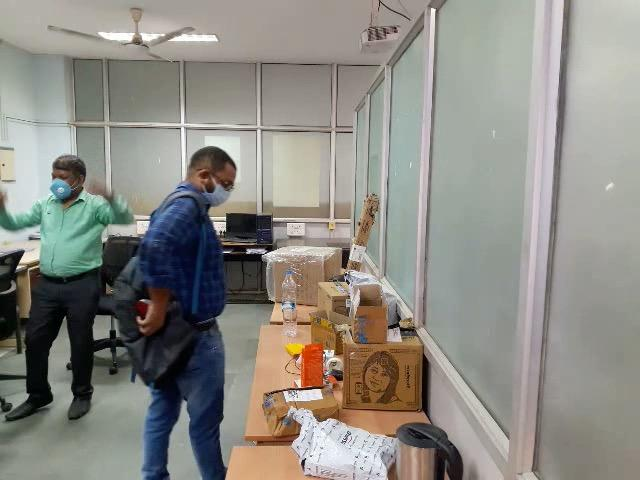shoplifting: (81, 198, 192, 424)
